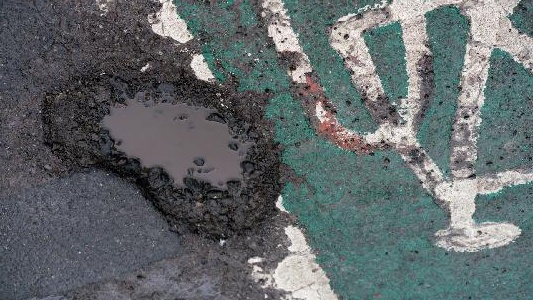pothole: (40, 61, 288, 242)
